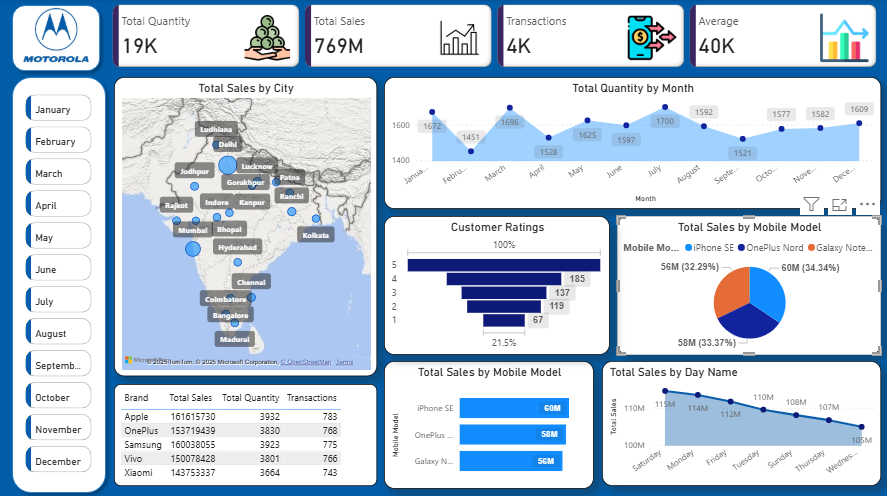

The dashboard page shown, as its layout file describes it:
{"tool":"powerbi","page":{"name":"Page 1","canvas":[1280,720],"ordinal":0},"visuals":[{"type":"shape","box":[10.6,0,144.4,112.7],"z":0},{"type":"image","box":[29.9,0,103.9,103.9],"z":1000},{"type":"shape","box":[10.1,103.7,152.6,616.3],"z":2000},{"type":"cardVisual","fields":{"Data":["Sales_Data.Total Quantity","Sales_Data.Total Sales","Sales_Data.Transactions","Sales_Data.Average"]},"box":[158.4,2.9,1111.7,100.8],"z":3000},{"type":"advancedSlicerVisual","fields":{"Values":["Sales_Data.Date.Variation.Date Hierarchy.Month"]},"box":[33.1,132.5,105.1,563],"z":4000},{"type":"map","fields":{"Category":["Sales_Data.City"],"Size":["Sales_Data.Total Sales"]},"box":[165.6,112.3,378.7,430.6],"z":5000},{"type":"areaChart","fields":{"Category":["Sales_Data.Date.Variation.Date Hierarchy.Month","Sales_Data.Date.Variation.Date Hierarchy.Day"],"Y":["Sales_Data.Total Quantity"]},"box":[554.4,112.3,715.7,190.1],"z":6000},{"type":"clusteredBarChart","fields":{"Category":["Sales_Data.Mobile Model"],"Y":["Sales_Data.Total Sales"]},"box":[554.4,521.3,302.4,184.3],"z":7000},{"type":"pieChart","fields":{"Category":["Sales_Data.Mobile Model"],"Y":["Sales_Data.Total Sales"]},"box":[889.9,312.5,380.2,200.2],"z":8000},{"type":"funnel","title":" Customer Ratings ","fields":{"Y":["CountNonNull(Sales_Data.Customer Ratings)"],"Category":["Sales_Data.Customer Ratings"]},"box":[554.4,312.5,325.4,200.2],"z":9000},{"type":"areaChart","fields":{"Category":["Sales_Data.Day Name"],"Y":["Sales_Data.Total Sales"]},"box":[868.3,521.3,401.8,180],"z":10000},{"type":"tableEx","fields":{"Values":["Sales_Data.Brand","Sales_Data.Total Sales","Sales_Data.Total Quantity","Sales_Data.Transactions"]},"box":[165.6,554.4,378.7,146.9],"z":11000}]}

Visuals, with their boxes in screenshot pixels (x1, y1, x2, y2), scaled from the page's 1280x720 canvas onto the 887x496 screenshot:
shape: BBox(7, 0, 107, 78)
image: BBox(21, 0, 93, 72)
shape: BBox(7, 71, 113, 495)
cardVisual - Sales_Data.Total Quantity x Sales_Data.Total Sales: BBox(110, 2, 880, 71)
advancedSlicerVisual - Sales_Data.Date.Variation.Date Hierarchy.Month: BBox(23, 91, 96, 479)
map - Sales_Data.City x Sales_Data.Total Sales: BBox(115, 77, 377, 374)
areaChart - Sales_Data.Date.Variation.Date Hierarchy.Month x Sales_Data.Date.Variation.Date Hierarchy.Day: BBox(384, 77, 880, 208)
clusteredBarChart - Sales_Data.Mobile Model x Sales_Data.Total Sales: BBox(384, 359, 594, 486)
pieChart - Sales_Data.Mobile Model x Sales_Data.Total Sales: BBox(617, 215, 880, 353)
" Customer Ratings " funnel: BBox(384, 215, 610, 353)
areaChart - Sales_Data.Day Name x Sales_Data.Total Sales: BBox(602, 359, 880, 483)
tableEx - Sales_Data.Brand x Sales_Data.Total Sales: BBox(115, 382, 377, 483)
